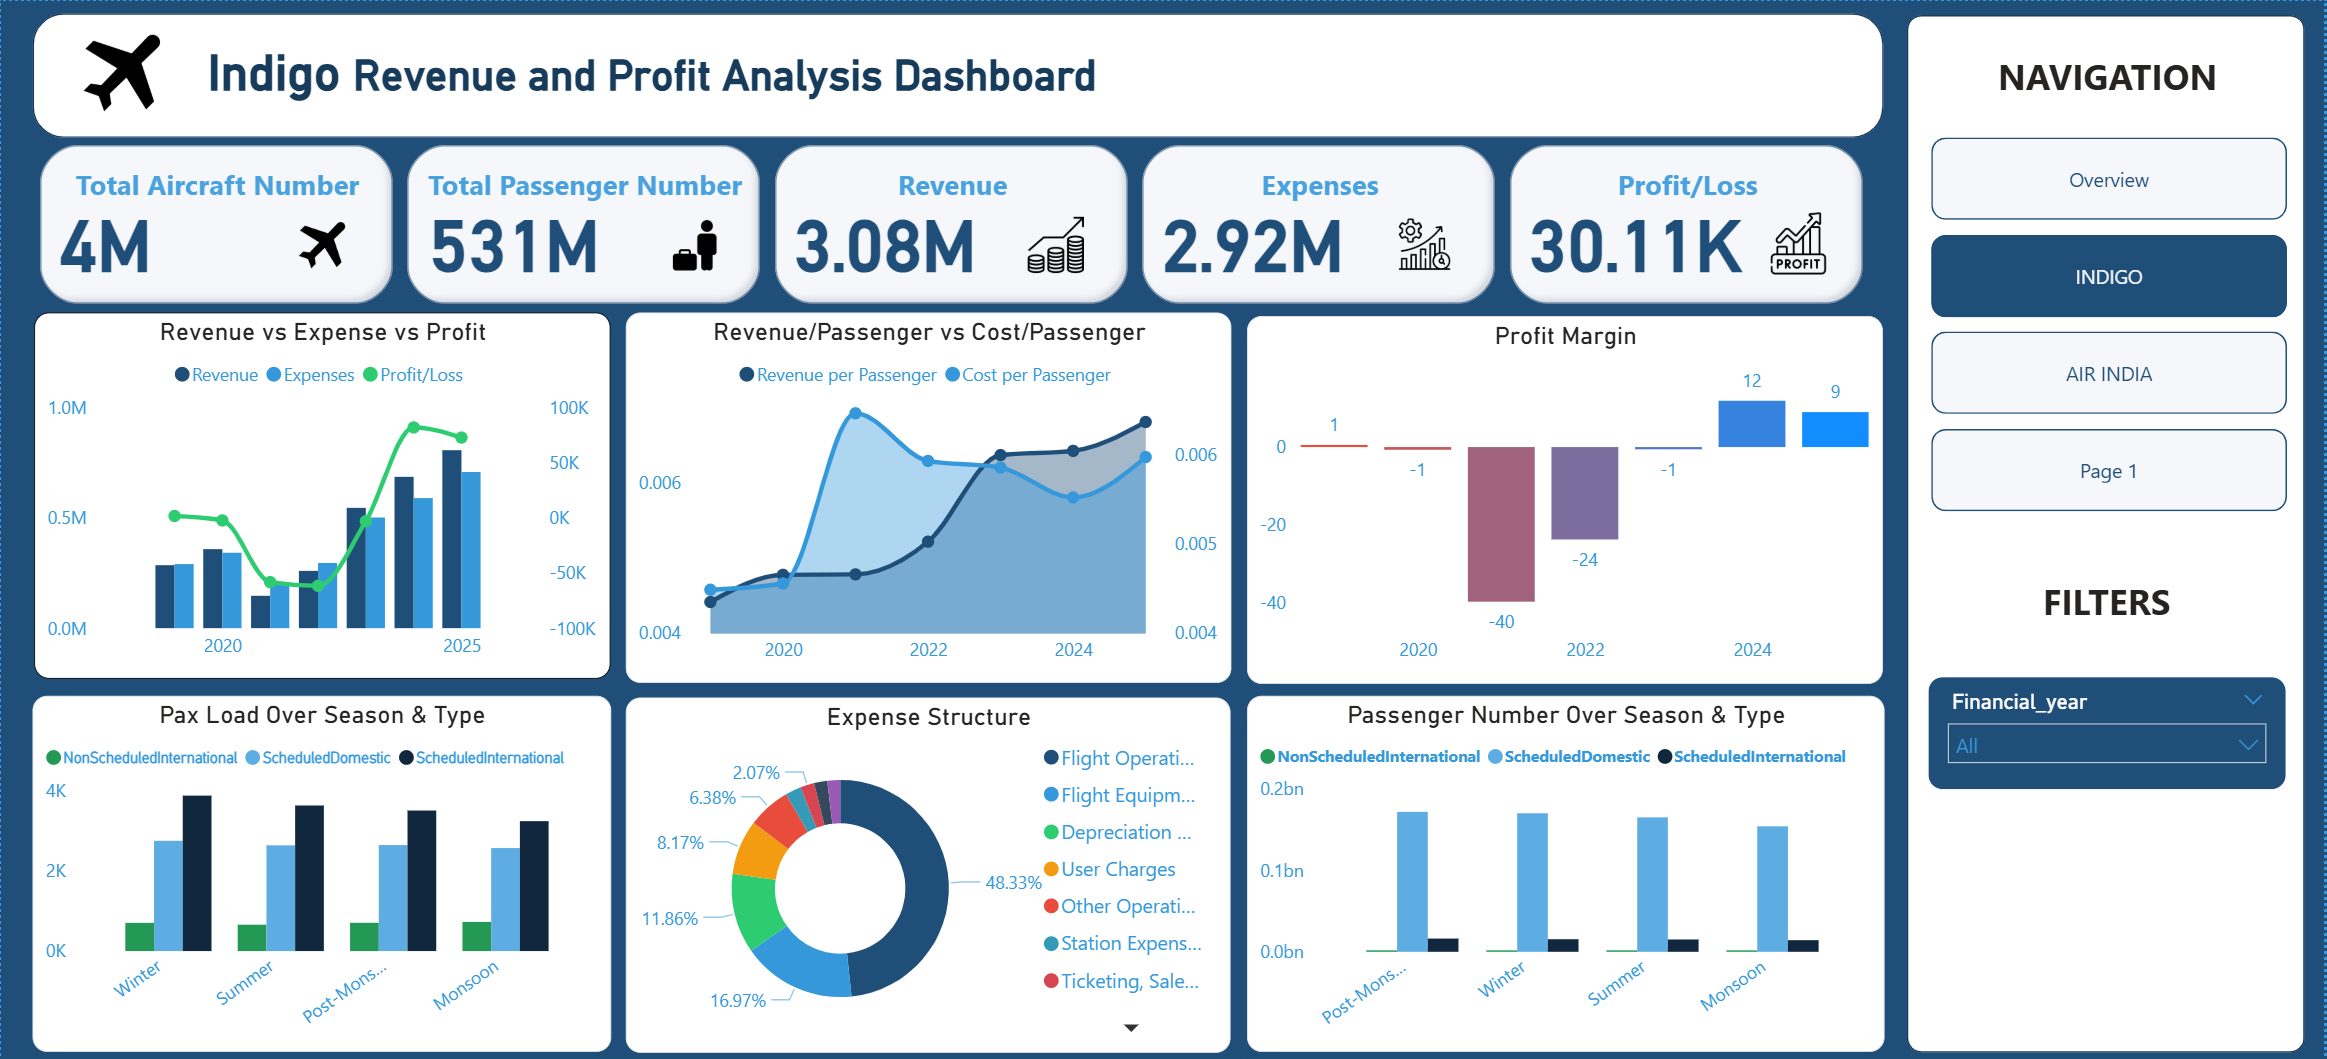

The page's visual inventory and layout, read from the dashboard file:
{"tool":"powerbi","page":{"name":"INDIGO","canvas":[1580,720],"ordinal":1},"visuals":[{"type":"shape","box":[1297,9.3,270.8,705.9],"z":0,"group":"g1"},{"type":"cardVisual","fields":{"Data":["Sum(Yearly_traffic&finance.Total_Aircraft_Number)","Sum(Yearly_traffic&finance.Total_Passenger_Number)","Sum(Yearly_traffic&finance.TOTAL_OPERATING_REVENUEM)","Sum(Yearly_traffic&finance.TOTAL_OPERATING_EXPENSESM)","Sum(Yearly_traffic&finance.PROFIT/LOSS__AFTER_TAX)"]},"box":[20.9,92.7,1259.1,118.1],"z":0},{"type":"textbox","box":[1330.4,29.9,206.6,43.6],"z":1000,"group":"g1"},{"type":"areaChart","title":"Revenue/Passenger vs Cost/Passenger","fields":{"Category":["Yearly_traffic&finance.Financial_year"],"Y":["Sum(Yearly_traffic&finance.Revenue_per_Passenger)"],"Y2":["Sum(Yearly_traffic&finance.Cost_per_Passenger)"]},"box":[425.6,211.4,412.1,251.9],"z":1000},{"type":"pageNavigator","box":[1313.7,92.8,242.6,256.7],"z":2000,"group":"g1"},{"type":"clusteredColumnChart","title":"Pax Load Over Season & Type","fields":{"Category":["TRAFFIC DATA.season"],"Y":["Sum(TRAFFIC DATA.Pax Load factor)"],"Series":["TRAFFIC DATA.Type"]},"box":[21.4,473,393.6,242.1],"z":2000},{"type":"textbox","box":[1329.1,386.7,207.9,43.6],"z":3000,"group":"g1"},{"type":"donutChart","title":"Expense Structure","fields":{"Category":["finance.OPERATING FACTORS"],"Y":["Sum(finance.OPERATING FACTORS VALUES)"]},"box":[425.6,473.3,411.6,241.9],"z":3000},{"type":"columnChart","title":"Profit Margin","fields":{"Category":["Yearly_traffic&finance.Financial_year"],"Y":["Sum(Yearly_traffic&finance.Profit_Margin_percent)"]},"box":[847.7,214,432.6,250],"z":4000},{"type":"slicer","fields":{"Values":["year_table.Financial_year"]},"box":[1311.1,459.9,243.9,77],"z":4000,"group":"g1"},{"type":"image","box":[195.3,145.5,45.8,41.8],"z":5000},{"type":"image","box":[440.4,140.1,63.3,51.2],"z":6000},{"type":"image","box":[689.6,141.4,56.6,48.5],"z":7000},{"type":"image","box":[933.3,141.4,70,47.1],"z":8000},{"type":"shape","box":[21.5,8.1,1259.3,84.8],"z":9000},{"type":"textbox","box":[135.2,23.7,969.7,51.8],"z":10000},{"type":"image","box":[1196,137.4,52.5,56.6],"z":12000},{"type":"image","box":[47.3,18,68.7,61.9],"z":14000},{"type":"lineClusteredColumnComboChart","title":"Revenue vs Expense vs Profit","fields":{"Category":["Yearly_traffic&finance.Financial_year"],"Y":["Sum(Yearly_traffic&finance.TOTAL_OPERATING_REVENUEM)","Sum(Yearly_traffic&finance.TOTAL_OPERATING_EXPENSESM)"],"Y2":["Sum(Yearly_traffic&finance.PROFIT/LOSS__AFTER_TAX)"]},"box":[22.9,211.4,391.9,249.2],"z":15000},{"type":"clusteredColumnChart","title":"Passenger Number Over Season & Type","fields":{"Category":["TRAFFIC DATA.season"],"Series":["TRAFFIC DATA.Type"],"Y":["Sum(TRAFFIC DATA.Passenger Number)"]},"box":[847.1,472.7,433.7,242.4],"z":16000},{"type":"group","id":"g1","title":"Group 2","box":[1297,9.3,270.8,705.9],"z":17000}]}

Visuals, with their boxes in screenshot pixels (x1, y1, x2, y2), scaled from the page's 1580x720 canvas onto the 2327x1059 screenshot:
shape: Rect(1910, 14, 2309, 1052)
cardVisual - Sum(Yearly_traffic&finance.Total_Aircraft_Number) x Sum(Yearly_traffic&finance.Total_Passenger_Number): Rect(31, 136, 1885, 310)
textbox: Rect(1959, 44, 2264, 108)
"Revenue/Passenger vs Cost/Passenger" areaChart: Rect(627, 311, 1234, 681)
pageNavigator: Rect(1935, 136, 2292, 514)
"Pax Load Over Season & Type" clusteredColumnChart: Rect(32, 696, 611, 1052)
textbox: Rect(1957, 569, 2264, 633)
"Expense Structure" donutChart: Rect(627, 696, 1233, 1052)
"Profit Margin" columnChart: Rect(1248, 315, 1886, 682)
slicer - year_table.Financial_year: Rect(1931, 676, 2290, 790)
image: Rect(288, 214, 355, 275)
image: Rect(649, 206, 742, 281)
image: Rect(1016, 208, 1099, 279)
image: Rect(1375, 208, 1478, 277)
shape: Rect(32, 12, 1886, 137)
textbox: Rect(199, 35, 1627, 111)
image: Rect(1761, 202, 1839, 285)
image: Rect(70, 26, 171, 118)
"Revenue vs Expense vs Profit" lineClusteredColumnComboChart: Rect(34, 311, 611, 677)
"Passenger Number Over Season & Type" clusteredColumnChart: Rect(1248, 695, 1886, 1052)
"Group 2" group: Rect(1910, 14, 2309, 1052)
